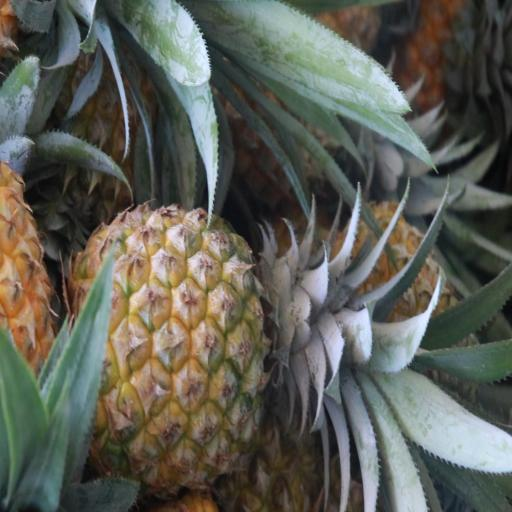Pineapple - v8 v1: (79, 205, 288, 484)
